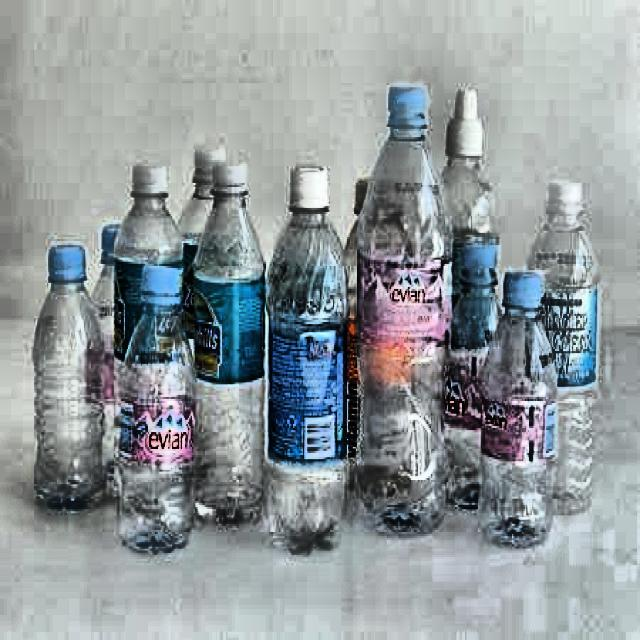Bottles: (358, 78, 453, 560), (264, 155, 352, 558), (519, 154, 602, 519), (193, 160, 263, 547), (117, 263, 199, 565), (26, 232, 108, 510), (479, 267, 557, 558), (448, 230, 508, 519), (436, 75, 499, 265)
